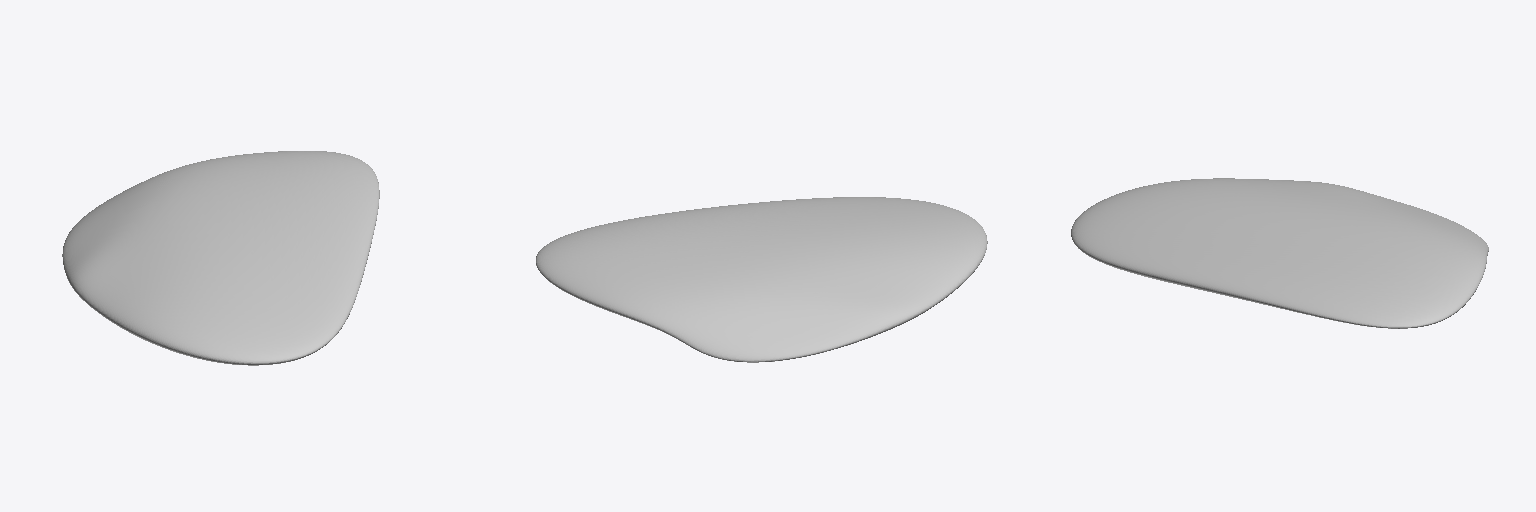
The picture shows the model from 3 angles: view 1: azimuth 30°, elevation 25°; view 2: azimuth 150°, elevation 25°; view 3: azimuth 270°, elevation 25°; orthographic projection.
Visible parts, largest first — view 1: Quad_Sphere; view 2: Quad_Sphere; view 3: Quad_Sphere.
Part boxes in pixels (bbox=[...]): Quad_Sphere: bbox=[62, 151, 379, 365]; Quad_Sphere: bbox=[536, 197, 987, 362]; Quad_Sphere: bbox=[1071, 178, 1488, 328].
Size of the model in its own units: 3.47 by 0.4561 by 3.77.